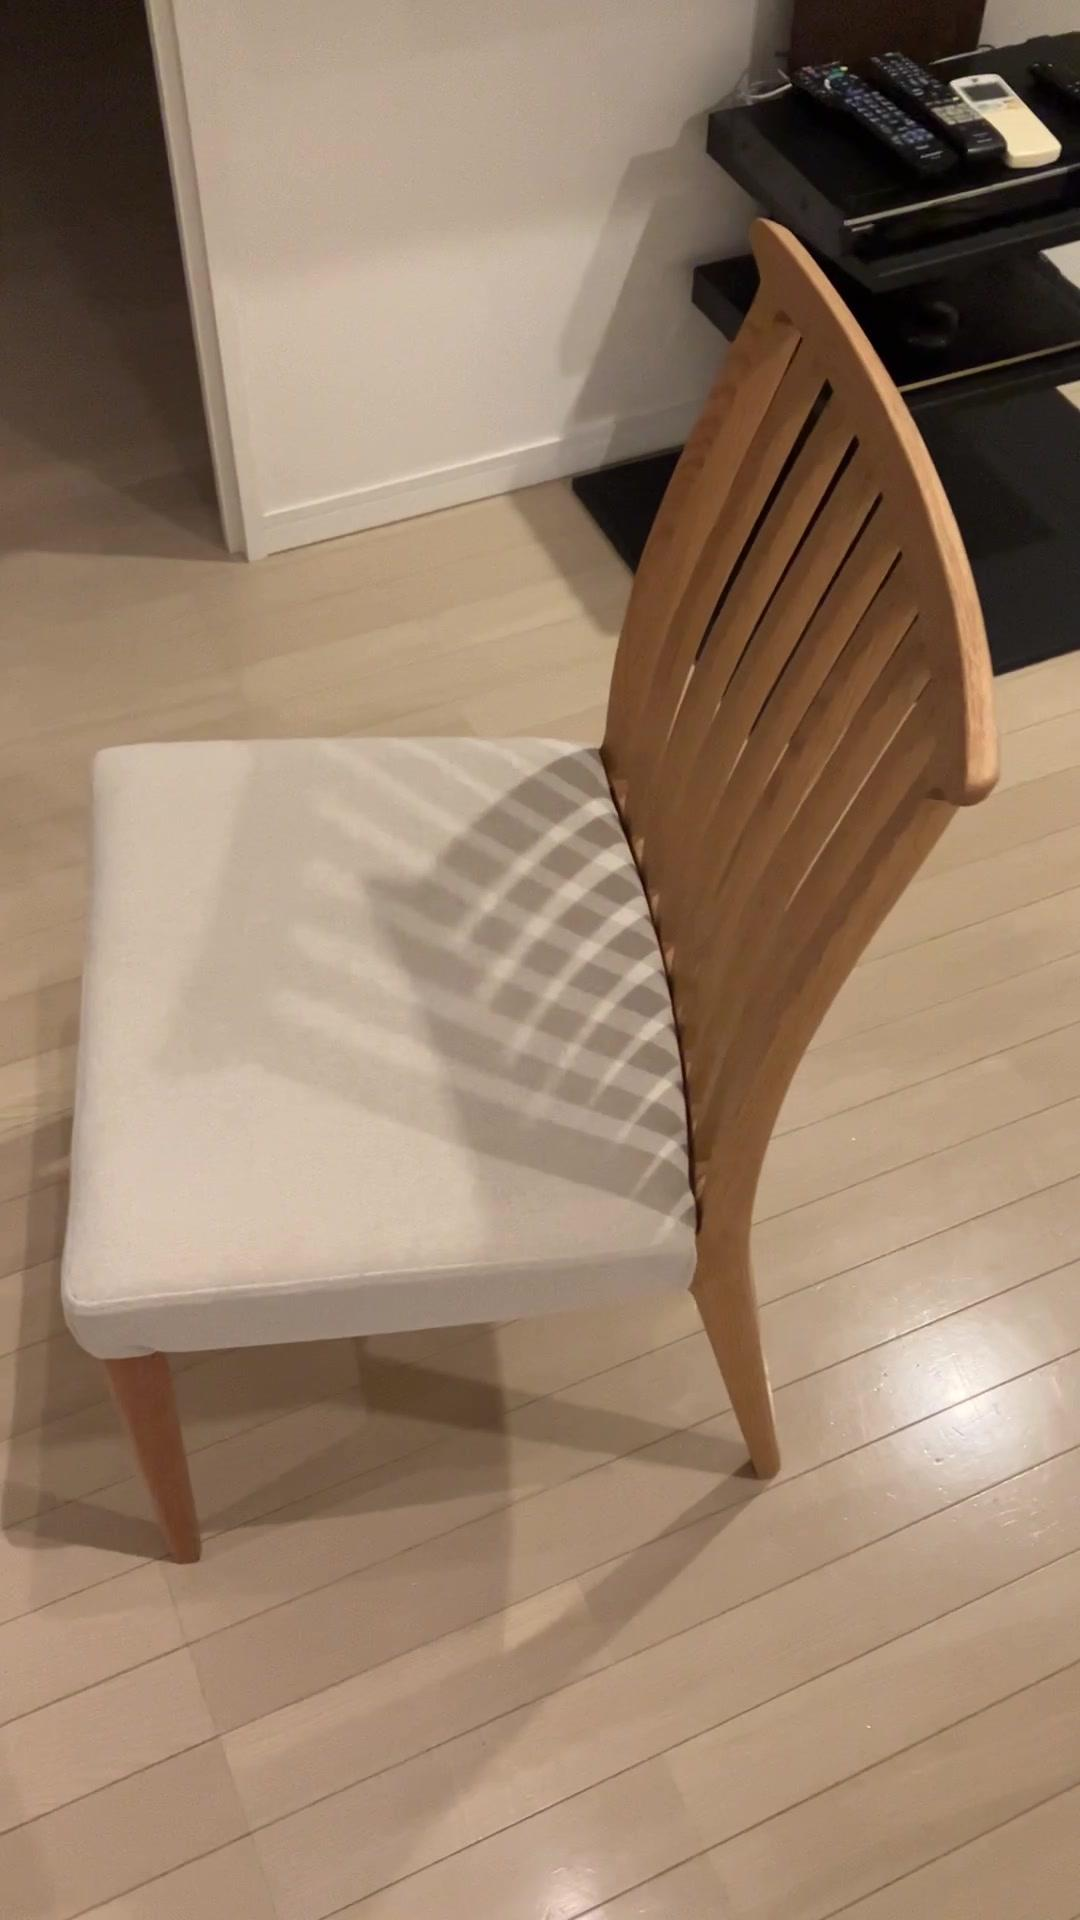takumikan-chair: (55, 212, 1002, 1568)
